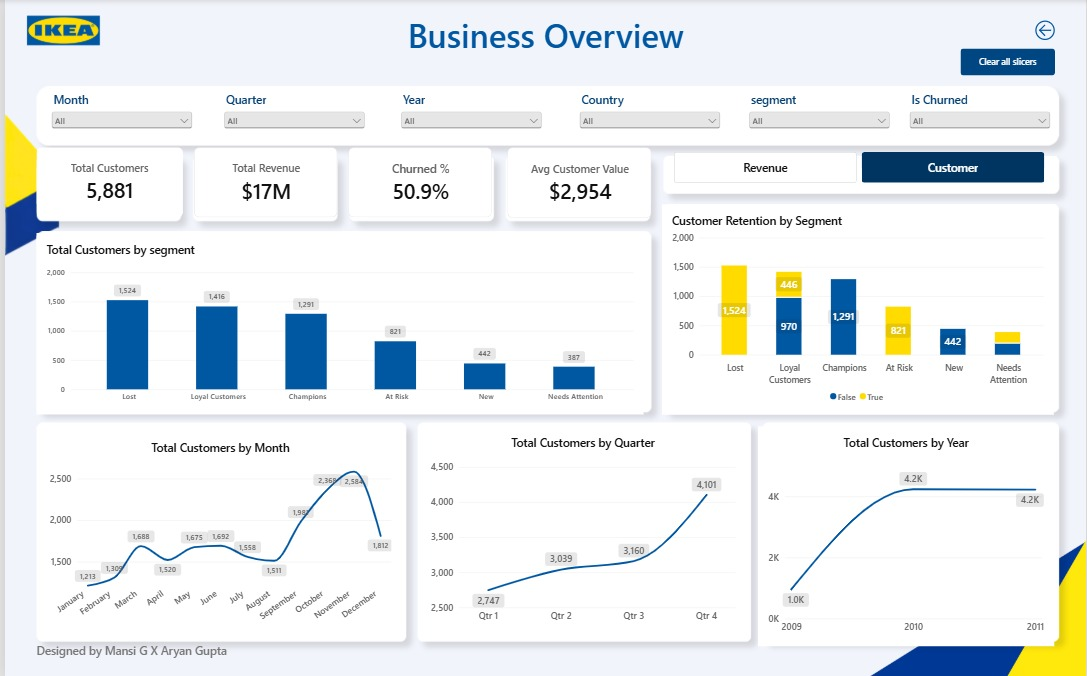

Layout of this report page (visuals, bound fields, positions):
{"tool":"powerbi","page":{"name":"Overview","canvas":[1750,1100],"ordinal":1},"visuals":[{"type":"cardVisual","fields":{"Data":["Sheet1.Total Customers"]},"box":[51.6,240,237.5,113.6],"z":0},{"type":"columnChart","fields":{"Category":["Sheet1.segment"],"Y":["Sheet1.Total Revenue"]},"box":[51.6,379.5,993.7,294.2],"z":0,"group":"g1"},{"type":"cardVisual","fields":{"Data":["Sheet1.Total Revenue"]},"box":[307.2,240,232.3,113.6],"z":1000},{"type":"pieChart","title":"Revenue Retention by Segment","fields":{"Category":["Sheet1.segment"],"Series":["Sheet1.IsChurned"],"Y":["Sum(Sheet1.Revenue)"]},"box":[1063.4,333,635,340.7],"z":1000,"group":"g1"},{"type":"cardVisual","fields":{"Data":["Sheet1.Churned %"]},"box":[557.5,240,232.3,113.6],"z":2000},{"type":"lineChart","fields":{"Y":["Sheet1.Total Revenue"],"Category":["Sheet1.InvoiceMonth.Variation.Date Hierarchy.Quarter"]},"box":[673.7,691.8,526.5,338.1],"z":2000,"group":"g1"},{"type":"cardVisual","fields":{"Data":["Sheet1.Avg Customer Value"]},"box":[813.1,240,233.3,114.2],"z":3000},{"type":"lineChart","fields":{"Y":["Sheet1.Total Revenue"],"Category":["Sheet1.InvoiceMonth.Variation.Date Hierarchy.Year"]},"box":[1220.8,691.8,480.1,356.2],"z":3000,"group":"g1"},{"type":"slicer","fields":{"Values":["Sheet1.InvoiceDate.Variation.Date Hierarchy.Month"]},"box":[69.7,149.7,237.5,90.3],"z":4000},{"type":"lineChart","fields":{"Y":["Sheet1.Total Revenue"],"Category":["Sheet1.InvoiceMonth.Variation.Date Hierarchy.Month"]},"box":[51.6,691.8,585.9,338.1],"z":4000,"group":"g1"},{"type":"slicer","fields":{"Values":["Sheet1.InvoiceDate.Variation.Date Hierarchy.Year"]},"box":[637.5,149.7,237.5,90.3],"z":5000},{"type":"slicer","fields":{"Values":["Sheet1.Country"]},"box":[926.6,149.7,237.5,90.3],"z":6000},{"type":"slicer","fields":{"Values":["Sheet1.segment"]},"box":[1200.2,149.7,237.5,90.3],"z":7000},{"type":"slicer","fields":{"Values":["Sheet1.IsChurned"]},"box":[1460.9,149.7,237.5,90.3],"z":8000},{"type":"slicer","fields":{"Values":["Sheet1.InvoiceDate.Variation.Date Hierarchy.Quarter"]},"box":[351,149.7,237.5,90.3],"z":9000},{"type":"group","id":"g1","title":"Revenue","box":[51.6,333,1649.3,715],"z":11000},{"type":"bookmarkNavigator","box":[1083.7,247.2,600,50],"z":12000},{"type":"textbox","box":[51,1042.5,352.4,58.3],"z":13000},{"type":"image","box":[0,0,189.5,102.1],"z":14000},{"type":"textbox","box":[582.2,21.9,585.7,80.2],"z":15000},{"type":"actionButton","box":[1635.5,21.9,99.6,58.3],"z":16000},{"type":"actionButton","box":[1548,80.2,153.1,43.7],"z":17000}]}

Visuals, with their boxes in screenshot pixels (x1, y1, x2, y2), scaled from the page's 1750x1100 canvas onto the 1087x676 screenshot:
cardVisual - Sheet1.Total Customers: 32:147:180:217
columnChart - Sheet1.segment x Sheet1.Total Revenue: 32:233:649:414
cardVisual - Sheet1.Total Revenue: 191:147:335:217
"Revenue Retention by Segment" pieChart: 661:205:1055:414
cardVisual - Sheet1.Churned %: 346:147:491:217
lineChart - Sheet1.Total Revenue x Sheet1.InvoiceMonth.Variation.Date Hierarchy.Quarter: 418:425:745:633
cardVisual - Sheet1.Avg Customer Value: 505:147:650:218
lineChart - Sheet1.Total Revenue x Sheet1.InvoiceMonth.Variation.Date Hierarchy.Year: 758:425:1057:644
slicer - Sheet1.InvoiceDate.Variation.Date Hierarchy.Month: 43:92:191:147
lineChart - Sheet1.Total Revenue x Sheet1.InvoiceMonth.Variation.Date Hierarchy.Month: 32:425:396:633
slicer - Sheet1.InvoiceDate.Variation.Date Hierarchy.Year: 396:92:544:147
slicer - Sheet1.Country: 576:92:723:147
slicer - Sheet1.segment: 745:92:893:147
slicer - Sheet1.IsChurned: 907:92:1055:147
slicer - Sheet1.InvoiceDate.Variation.Date Hierarchy.Quarter: 218:92:366:147
"Revenue" group: 32:205:1057:644
bookmarkNavigator: 673:152:1046:183
textbox: 32:641:251:675
image: 0:0:118:63
textbox: 362:13:725:63
actionButton: 1016:13:1078:49
actionButton: 962:49:1057:76
